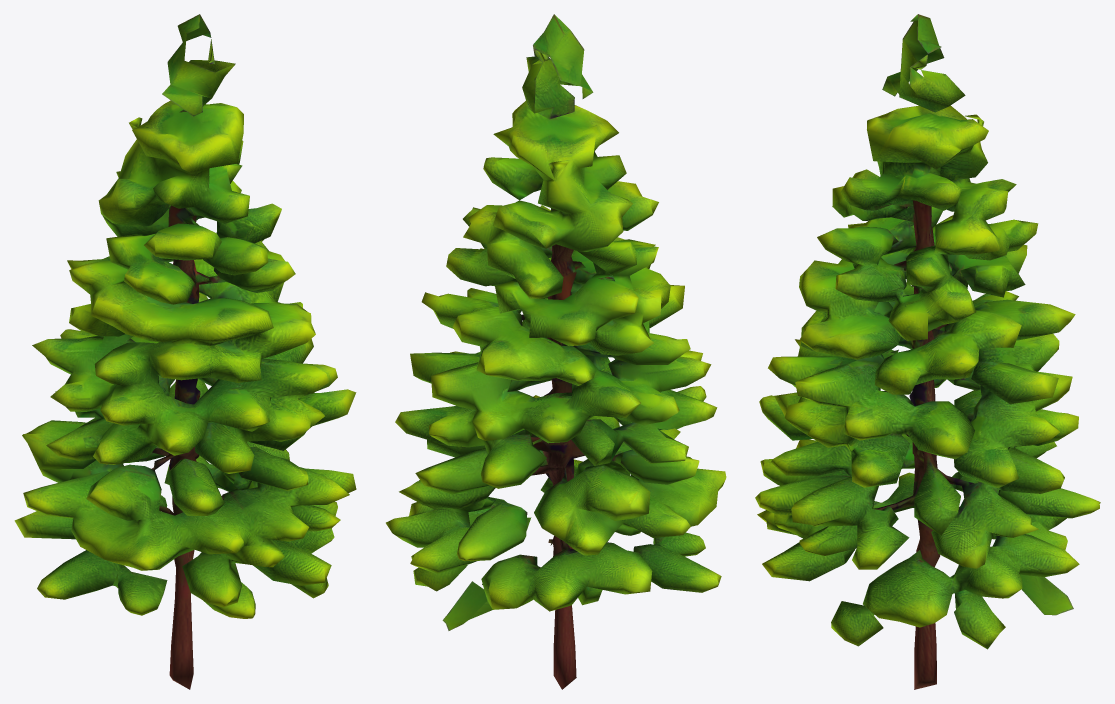
File: p_tree_pine.glb
3 views of the same model, side by side, from view 1: azimuth 30°, elevation 25°; view 2: azimuth 150°, elevation 25°; view 3: azimuth 270°, elevation 25° (orthographic). The views are drawn at different scales.
Parts seen in each view (by area): view 1: Mesh_0; view 2: Mesh_0; view 3: Mesh_0.
Boxes of the visible parts, left/top/right/bottom form: Mesh_0: left=14, top=14, right=356, bottom=689; Mesh_0: left=386, top=14, right=726, bottom=689; Mesh_0: left=755, top=14, right=1100, bottom=689.
Size of the model in its own units: 0.9487 by 2 by 0.9193.
1 material, 1 textured.
